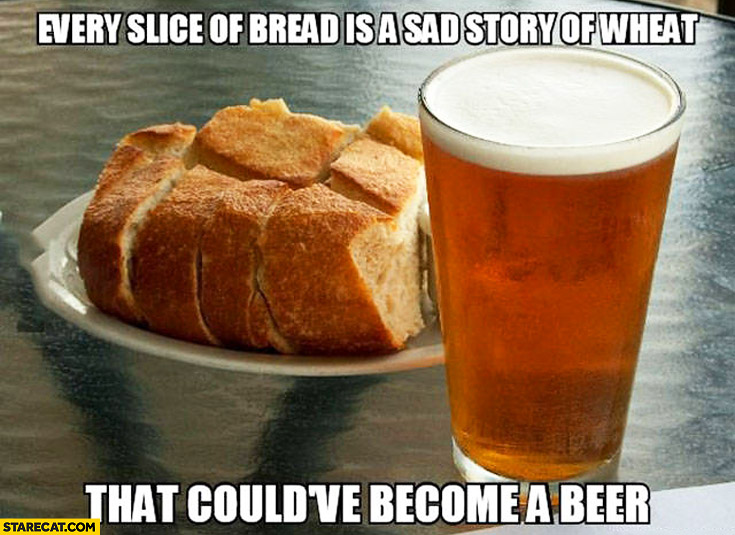slice of bread: (80, 214, 404, 332)
